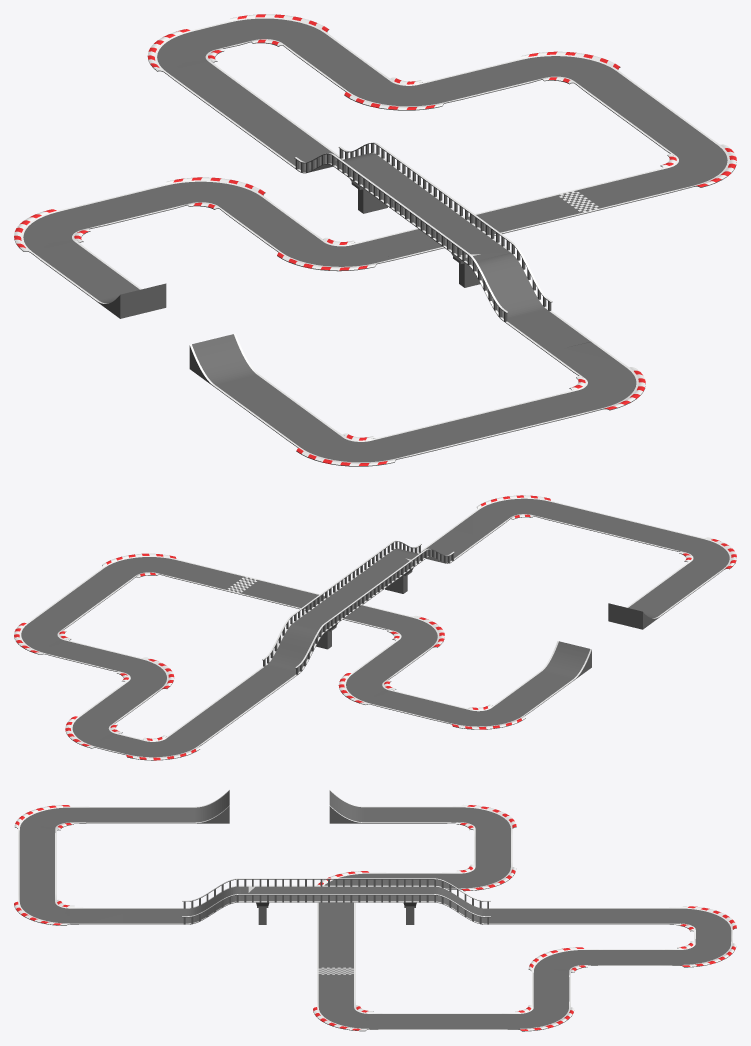
Rendered from track.gltf.
3 renders of one model, top to bottom at view 1: azimuth 30°, elevation 25°; view 2: azimuth 150°, elevation 25°; view 3: azimuth 270°, elevation 25°, orthographic. The views are drawn at different scales.
Visible parts, largest first — view 1: track-col; view 2: track-col; view 3: track-col.
Part boxes in pixels (x1,y1,x2,y2): track-col: (14,14,736,466); track-col: (14,495,736,760); track-col: (14,790,736,1031).
Bounding box in the file's own units: 395 × 27.74 × 534.
